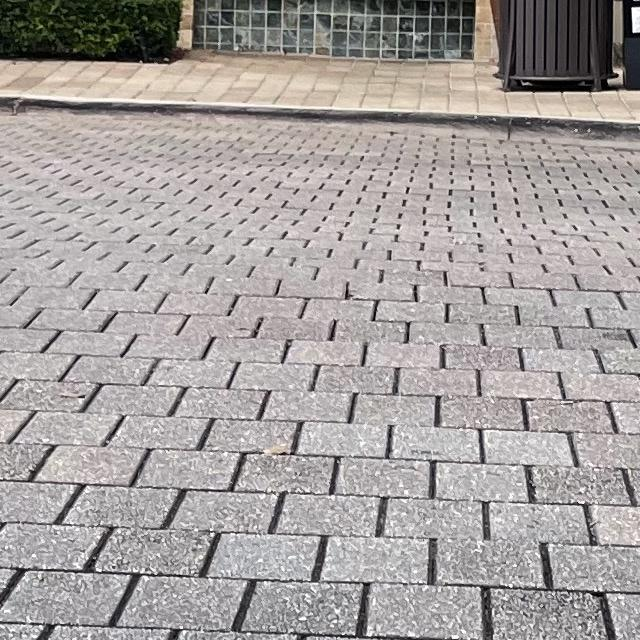curb: (0, 94, 639, 131)
